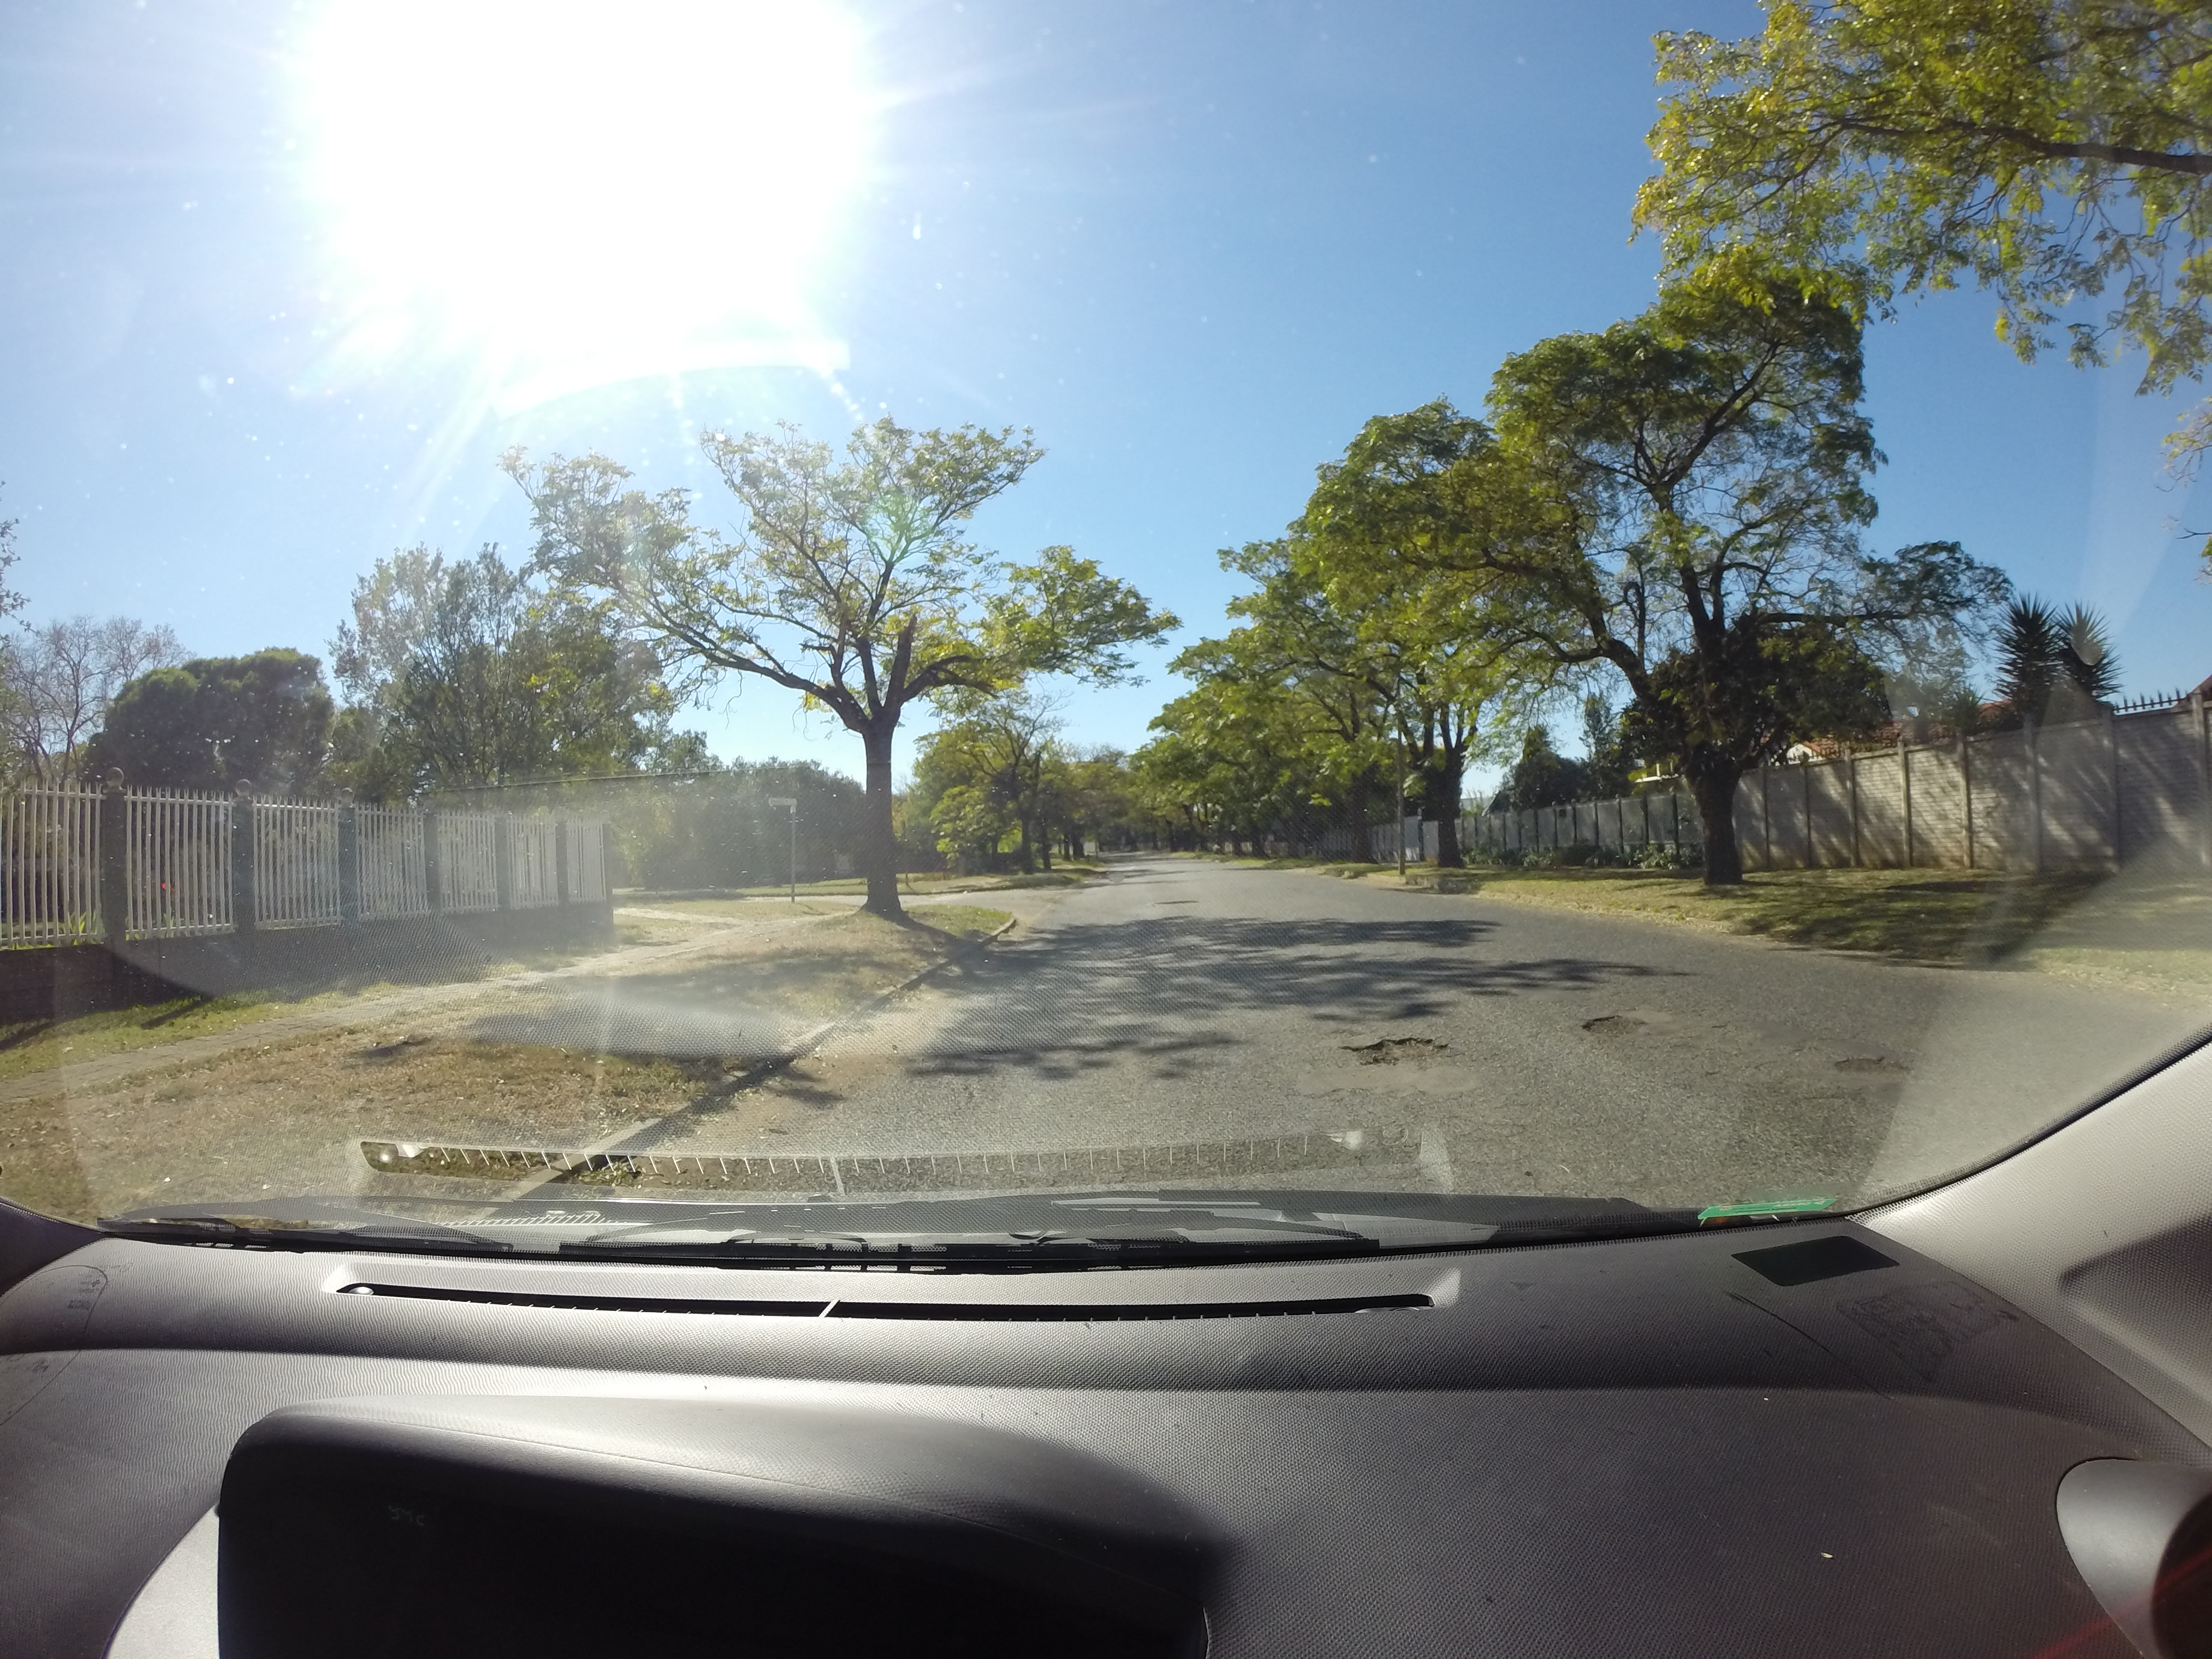pothole: (1568, 1014, 1735, 1079), (1350, 1030, 1486, 1082)
